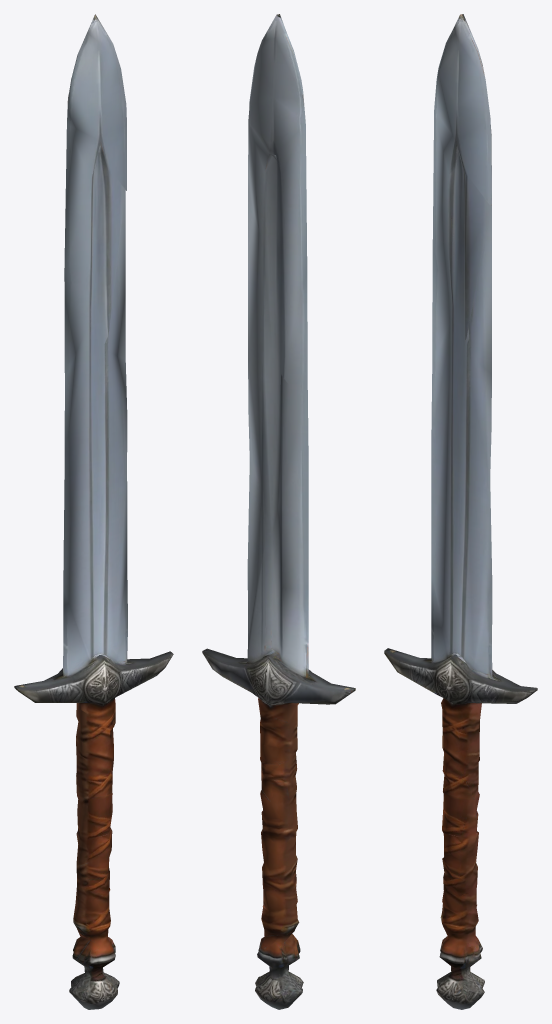
File: sword-slim.glb
3 renders of one model, left to right at view 1: azimuth 30°, elevation 25°; view 2: azimuth 150°, elevation 25°; view 3: azimuth 330°, elevation 25°, orthographic.
Visible parts, largest first — view 1: Mesh1.0; view 2: Mesh1.0; view 3: Mesh1.0.
Boxes of the visible parts, x1,y1,x2,y2 form: Mesh1.0: (14, 14, 173, 1009); Mesh1.0: (202, 14, 355, 1009); Mesh1.0: (384, 14, 537, 1009).
Size of the model in its own units: 0.3083 by 1.9 by 0.0849.
Materials: 1 (1 with a texture image).
